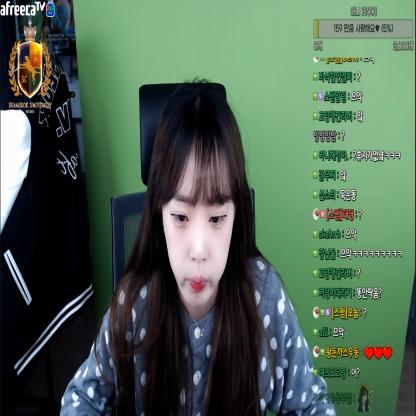streamer: (60, 82, 336, 416)
